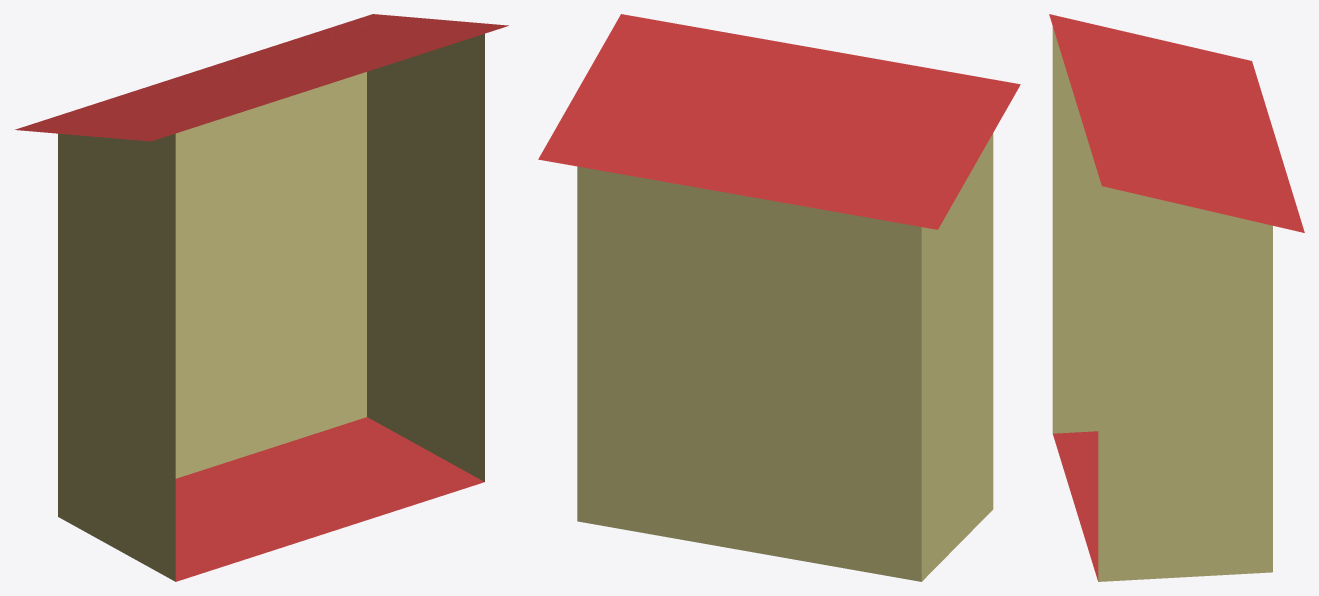
3 renders of one model, left to right at view 1: azimuth 30°, elevation 25°; view 2: azimuth 150°, elevation 25°; view 3: azimuth 270°, elevation 25°, orthographic. The views are drawn at different scales.
Bounding box in the file's own units: 7.63 × 4.5 × 7.91.
